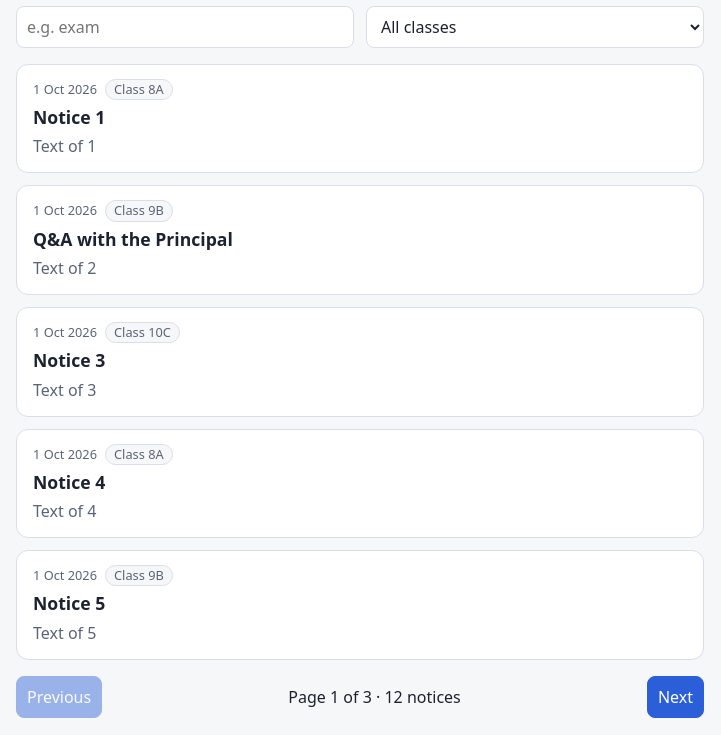
pages of 5 › Next goes to page 2, then 3 (2 notices, Next disabled), and Previous goes back
(page scrolled)
Step 1. Click the button "Next" → (675, 697), box x1=647 y1=676 x2=704 y2=718
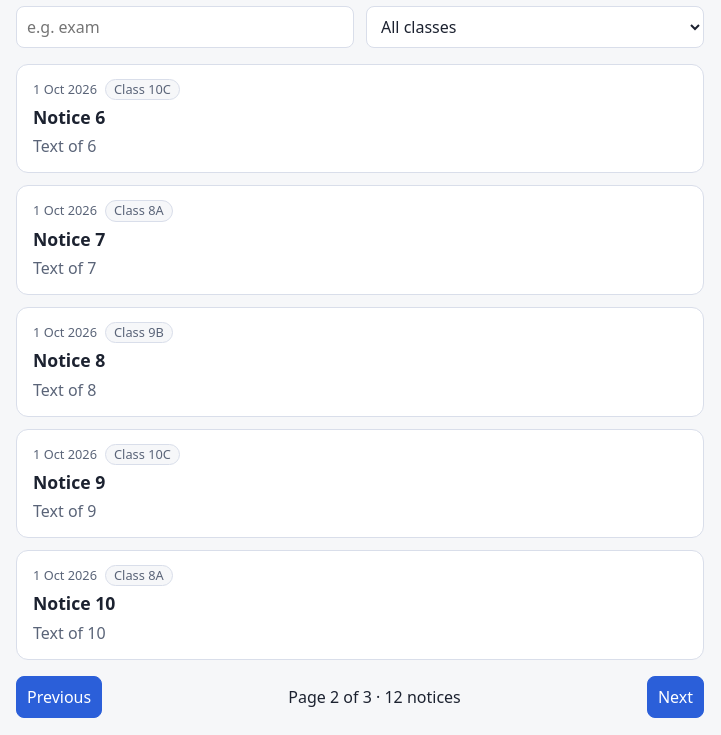
Check: the number of list items is 5, box x1=16 y1=64 x2=704 y2=173; x1=16 y1=185 x2=704 y2=295; x1=16 y1=307 x2=704 y2=416; x1=16 y1=428 x2=704 y2=538; x1=16 y1=550 x2=704 y2=660
Check: the text "Page 2 of 3 · 12 notices" is shown, box x1=288 y1=685 x2=461 y2=709
Step 2. Click the button "Next" → (675, 697), box x1=647 y1=676 x2=704 y2=718
(page scrolled)
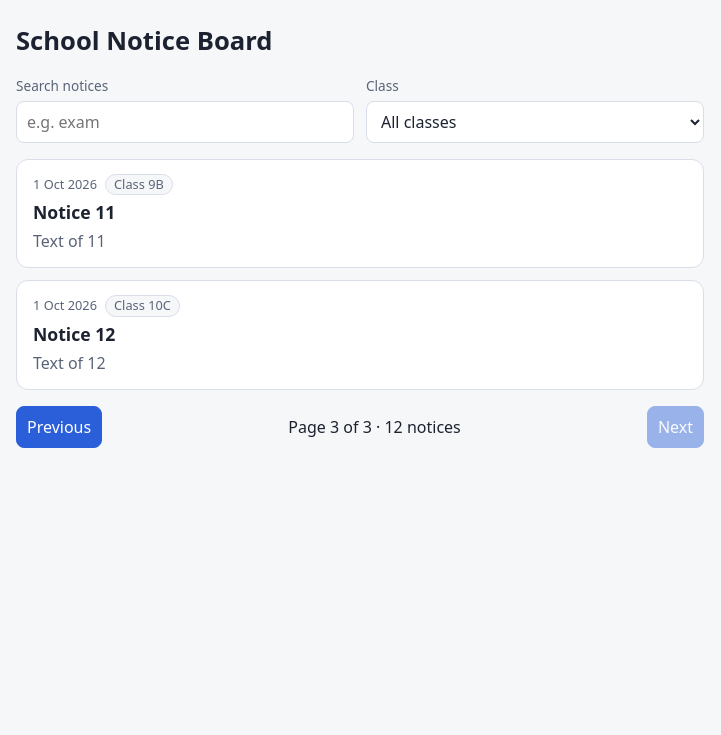
Check: the text "Page 3 of 3 · 12 notices" is shown, box x1=288 y1=415 x2=461 y2=439
Check: the number of list items is 2, box x1=16 y1=159 x2=704 y2=268; x1=16 y1=280 x2=704 y2=390
Check: the button "Next" is disabled, box x1=647 y1=406 x2=704 y2=448
Step 3. Click the button "Previous" → (59, 427), box x1=16 y1=406 x2=102 y2=448
(page scrolled)
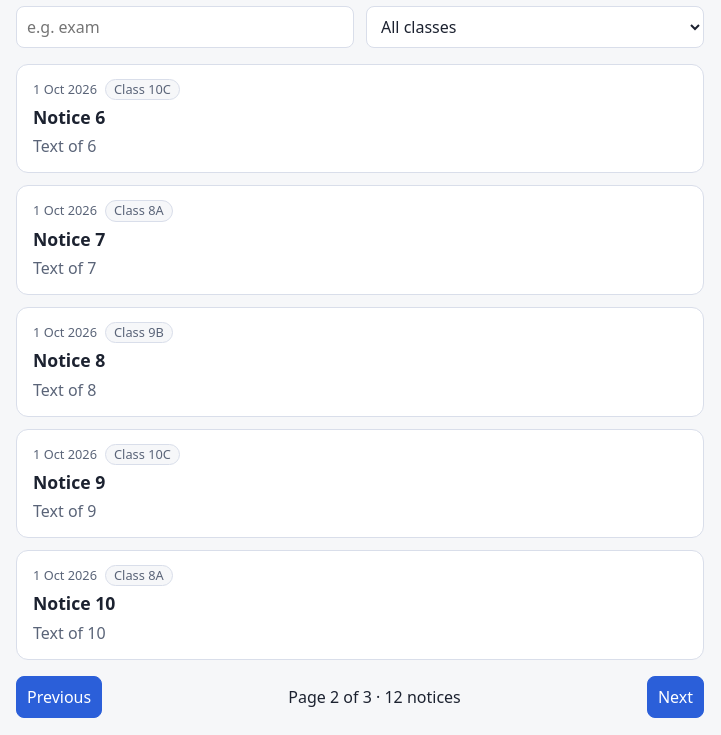
Check: the text "Page 2 of 3 · 12 notices" is shown, box x1=288 y1=685 x2=461 y2=709
